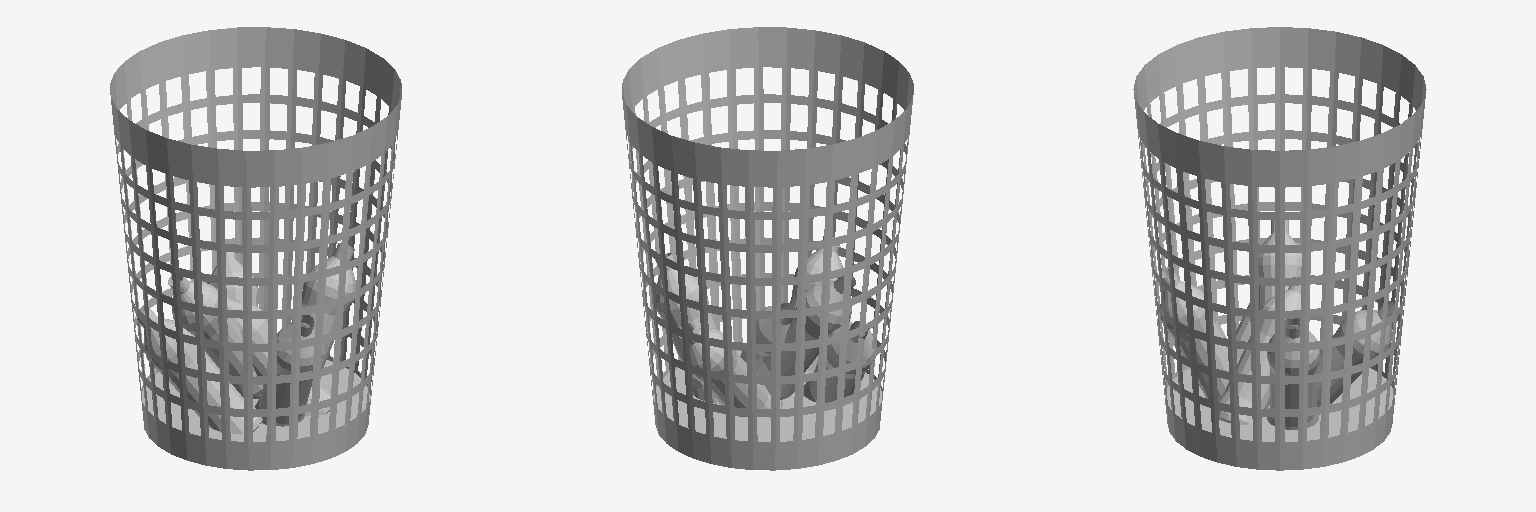
The model's file is DustbinWithCan_000034.obj.
The picture shows the model from 3 angles: view 1: azimuth 30°, elevation 25°; view 2: azimuth 150°, elevation 25°; view 3: azimuth 270°, elevation 25°; orthographic projection.
Parts seen in each view (by area): view 1: Cylinder, Plane.005, Plane.006, Plane.001, Plane.003, Plane.004, Plane.002; view 2: Cylinder, Plane.006, Plane.002, Plane.005, Plane.003, Plane.001, Plane.004; view 3: Cylinder, Plane.001, Plane.004, Plane.003, Plane.002, Plane.006.
Part boxes in pixels (left/top/right/bottom): Cylinder: left=110, top=27, right=401, bottom=470; Plane.005: left=135, top=307, right=262, bottom=433; Plane.006: left=168, top=276, right=262, bottom=397; Plane.001: left=255, top=315, right=323, bottom=426; Plane.003: left=291, top=243, right=355, bottom=368; Plane.004: left=227, top=296, right=330, bottom=415; Plane.002: left=207, top=252, right=260, bottom=398; Cylinder: left=622, top=27, right=913, bottom=470; Plane.006: left=756, top=276, right=855, bottom=399; Plane.002: left=679, top=323, right=782, bottom=416; Plane.005: left=804, top=321, right=876, bottom=402; Plane.003: left=655, top=253, right=719, bottom=403; Plane.001: left=790, top=236, right=843, bottom=391; Plane.004: left=740, top=303, right=795, bottom=362; Cylinder: left=1133, top=27, right=1426, bottom=470; Plane.001: left=1160, top=269, right=1238, bottom=399; Plane.004: left=1218, top=277, right=1300, bottom=424; Plane.003: left=1267, top=318, right=1319, bottom=429; Plane.002: left=1317, top=301, right=1394, bottom=406; Plane.006: left=1258, top=220, right=1301, bottom=308.
Size of the model in its own units: 2.6 by 3.27 by 2.6.